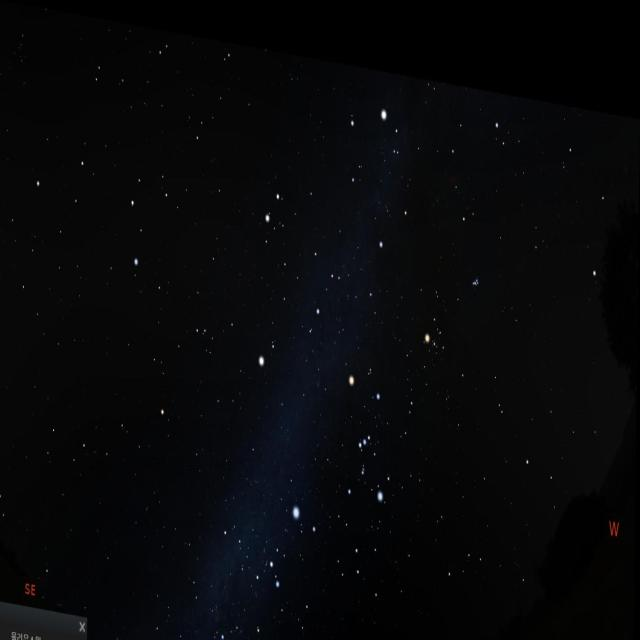canis_major: (262, 481, 326, 597)
canis_minor: (254, 318, 283, 371)
gemini: (261, 168, 353, 332)
leo: (28, 118, 178, 281)
orion: (338, 342, 392, 500)
pleiades: (471, 253, 486, 281)
taurus: (417, 222, 491, 366)
